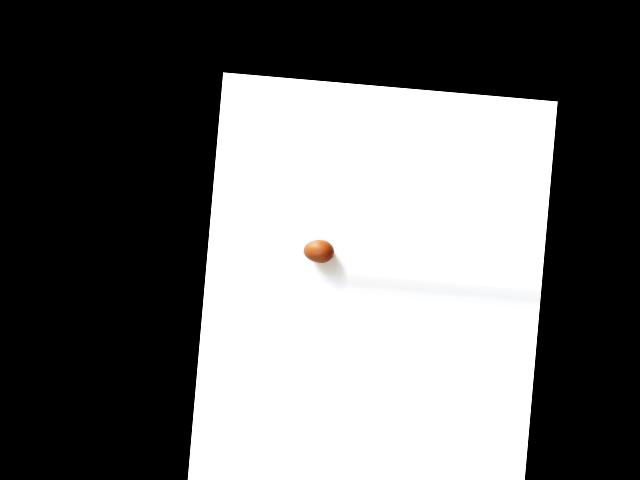egg: (302, 238, 335, 263)
